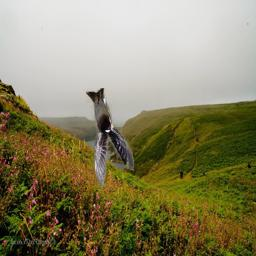Swallow: (86, 88, 134, 188)
